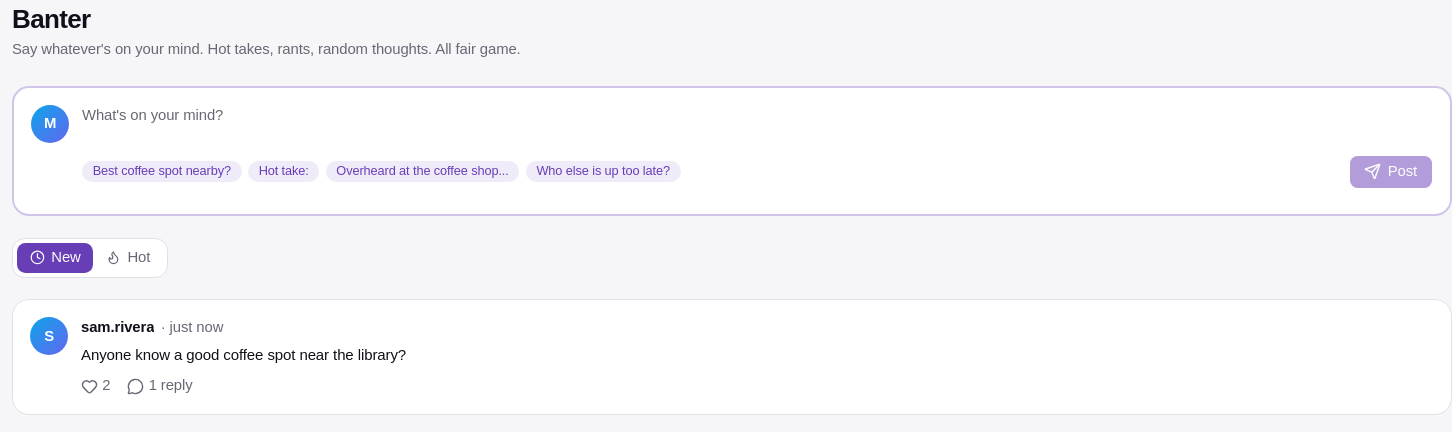
it: BanterPage › flips the like immediately, before the server answers
The width and height of the screenshot is (1452, 432).
Check: the text "Anyone know a good coffee spot near the library?" is shown, box [81,346,406,362]
Click the button named "Like" at (96,386), box [81,375,110,397]
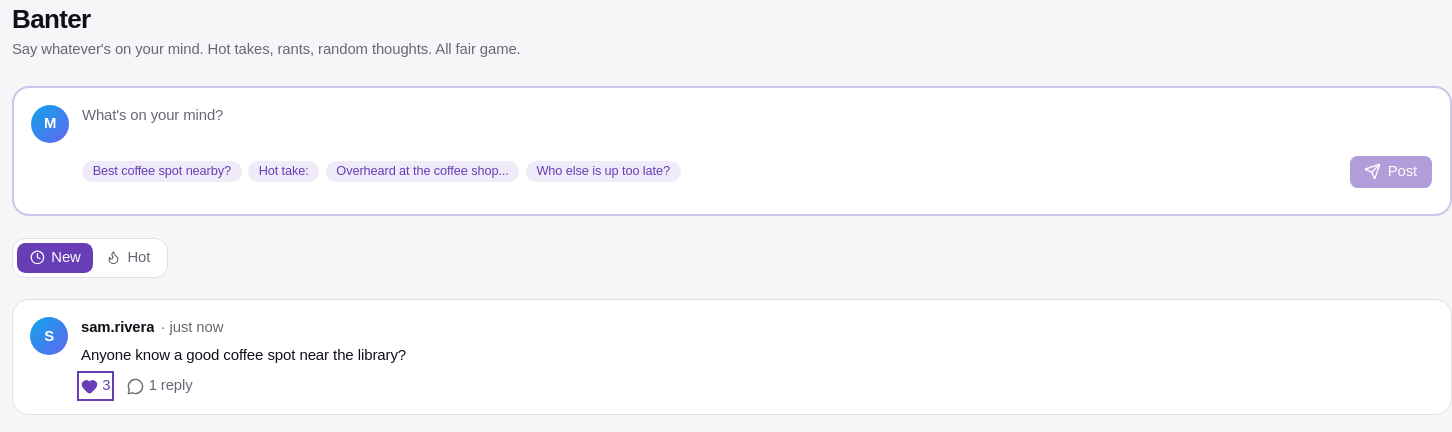
Check: the button named "Unlike" reads "3", box [81,375,110,397]
